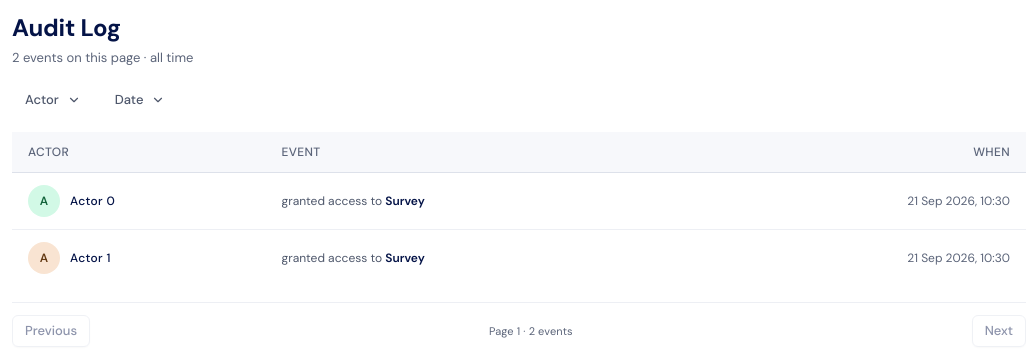
Scenario: AuditLogPage (/w/[slug]/audit) › populates the Actor menu from the team members
Expected: the column heading "Actor 0" is shown, [12, 172, 266, 230]
Step 1. Click the button "Actor" → click(53, 100), box [12, 84, 94, 116]
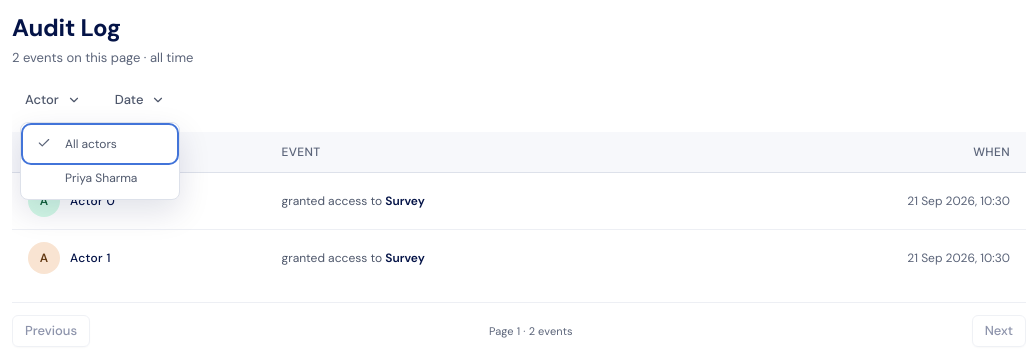
Expected: the menu item "Priya Sharma" is shown, [25, 161, 175, 195]
